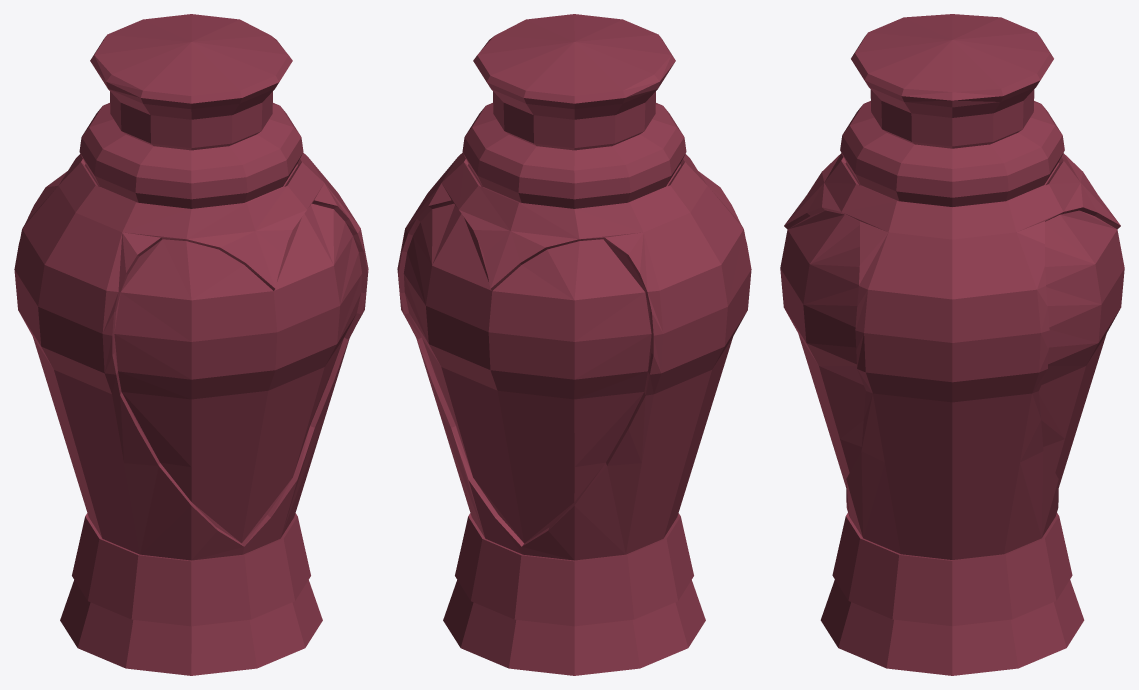
File: Perfume.fbx
3 renders of one model, left to right at view 1: azimuth 30°, elevation 25°; view 2: azimuth 150°, elevation 25°; view 3: azimuth 270°, elevation 25°, orthographic.
Visible parts, largest first — view 1: love_perfume; view 2: love_perfume; view 3: love_perfume.
Part boxes in pixels (<box>): love_perfume: <box>14,14,368,675</box>; love_perfume: <box>397,14,751,675</box>; love_perfume: <box>780,14,1124,675</box>.
Bounding box in the file's own units: 4.05 × 7.31 × 3.92.
